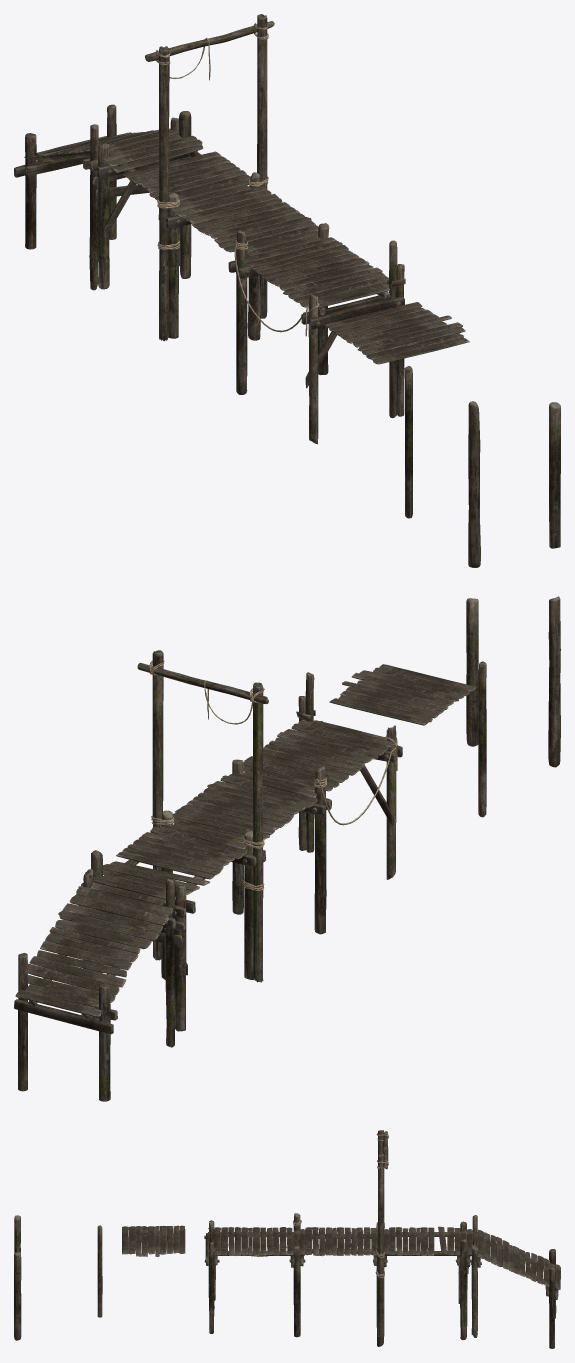
Rendered from modular_wooden_pier.glb.
The picture shows the model from 3 angles, top to bottom: view 1: azimuth 30°, elevation 25°; view 2: azimuth 150°, elevation 25°; view 3: azimuth 270°, elevation 25°; orthographic projection. The views are drawn at different scales.
Parts seen in each view (by area): view 1: modular_wooden_pier_section_01, modular_wooden_pier_section_03, modular_wooden_pier_section_02, modular_wooden_pier_section_05, modular_wooden_pier_section_04, modular_wooden_pier_planks, modular_wooden_pier_poles; view 2: modular_wooden_pier_section_04, modular_wooden_pier_section_01, modular_wooden_pier_section_03, modular_wooden_pier_section_02, modular_wooden_pier_section_05, modular_wooden_pier_poles, modular_wooden_pier_planks; view 3: modular_wooden_pier_section_01, modular_wooden_pier_section_04, modular_wooden_pier_section_03, modular_wooden_pier_section_02, modular_wooden_pier_planks, modular_wooden_pier_section_05, modular_wooden_pier_poles.
Part boxes in pixels (bbox=[...]): modular_wooden_pier_section_01: bbox=[228, 223, 405, 444]; modular_wooden_pier_section_03: bbox=[89, 111, 250, 289]; modular_wooden_pier_section_02: bbox=[158, 172, 318, 340]; modular_wooden_pier_section_05: bbox=[145, 14, 274, 341]; modular_wooden_pier_section_04: bbox=[14, 104, 179, 290]; modular_wooden_pier_planks: bbox=[325, 302, 469, 364]; modular_wooden_pier_poles: bbox=[404, 366, 560, 567]; modular_wooden_pier_section_04: bbox=[14, 868, 175, 1101]; modular_wooden_pier_section_01: bbox=[229, 672, 402, 934]; modular_wooden_pier_section_03: bbox=[81, 827, 247, 1031]; modular_wooden_pier_section_02: bbox=[160, 775, 317, 979]; modular_wooden_pier_section_05: bbox=[137, 650, 268, 982]; modular_wooden_pier_poles: bbox=[466, 596, 560, 817]; modular_wooden_pier_planks: bbox=[329, 664, 476, 725]; modular_wooden_pier_section_01: bbox=[204, 1213, 305, 1337]; modular_wooden_pier_section_04: bbox=[471, 1215, 560, 1348]; modular_wooden_pier_section_03: bbox=[376, 1221, 473, 1339]; modular_wooden_pier_section_02: bbox=[292, 1222, 389, 1346]; modular_wooden_pier_planks: bbox=[122, 1225, 185, 1256]; modular_wooden_pier_section_05: bbox=[375, 1130, 388, 1337]; modular_wooden_pier_poles: bbox=[14, 1215, 102, 1340].
Size of the model in its own units: 3.1 by 7.51 by 19.03.
Materials: 2 (2 with a texture image).
